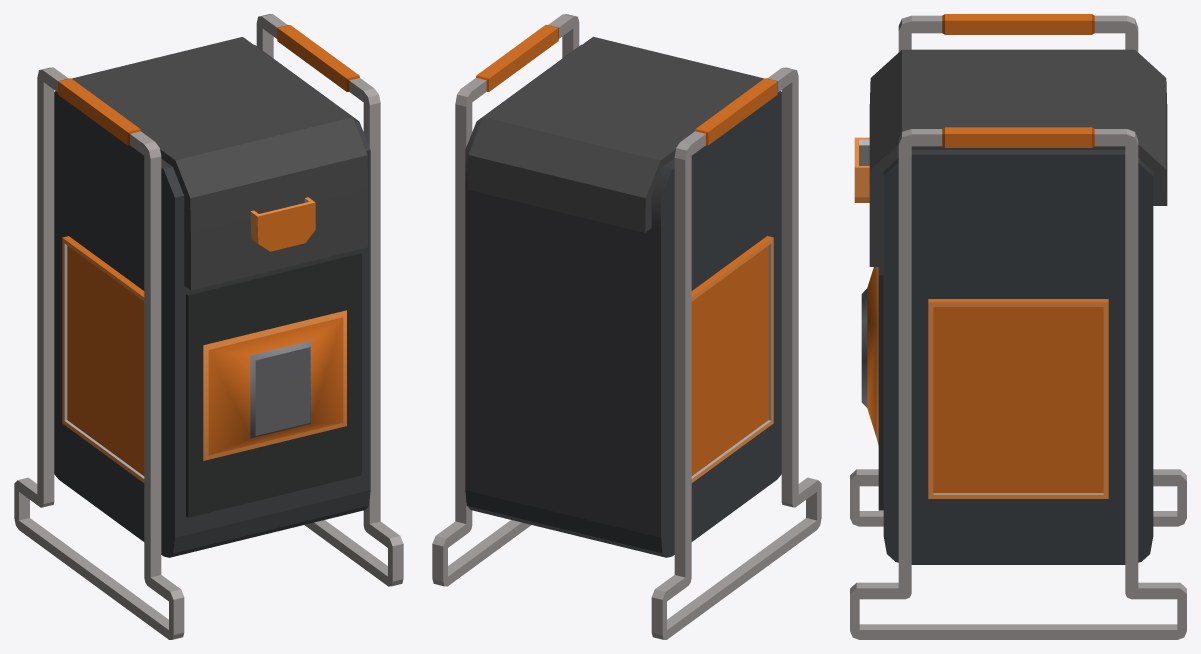
The model's file is Chest_SciFi.glb.
The picture shows the model from 3 angles, left to right: view 1: azimuth 30°, elevation 25°; view 2: azimuth 150°, elevation 25°; view 3: azimuth 270°, elevation 25°; orthographic projection. The views are drawn at different scales.
Visible parts, largest first — view 1: Drawer, Drawer_Top; view 2: Drawer, Drawer_Top; view 3: Drawer, Drawer_Top.
Boxes of the visible parts, <box> form: Drawer: <box>14,14,403,639</box>; Drawer_Top: <box>54,37,367,290</box>; Drawer: <box>432,14,821,639</box>; Drawer_Top: <box>468,36,781,232</box>; Drawer: <box>850,14,1186,639</box>; Drawer_Top: <box>854,49,1167,266</box>.
Size of what is drawn, in the model's own units: 0.6336 by 1.25 by 0.7523.
1 material, 1 textured.
